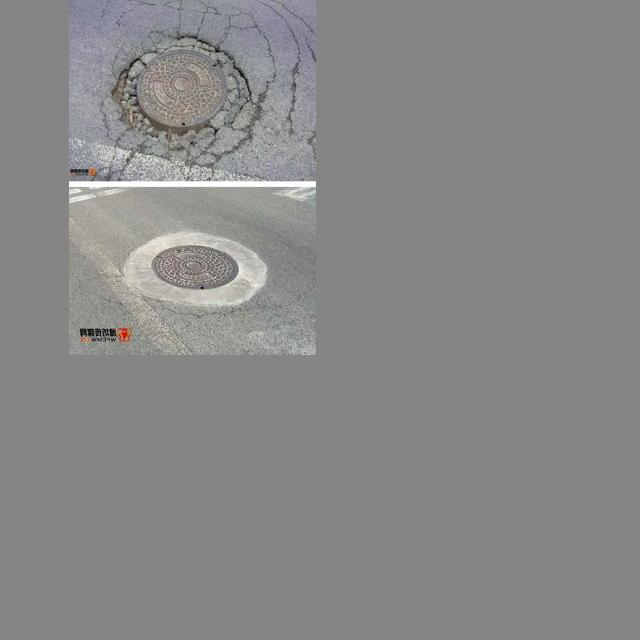circle: (101, 33, 260, 158)
